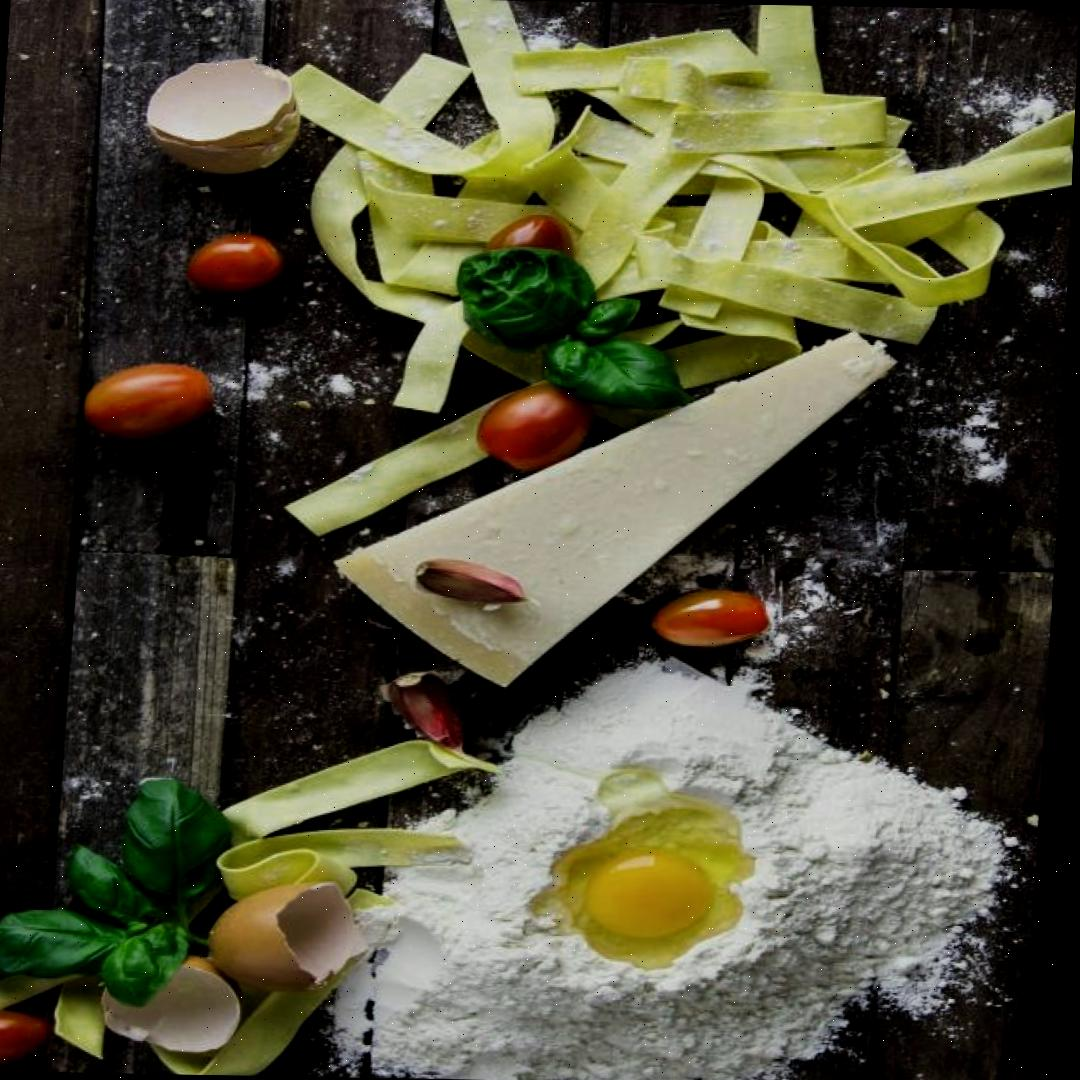matang: (473, 381, 598, 471), (79, 363, 216, 441), (645, 588, 771, 648), (185, 232, 284, 295)
